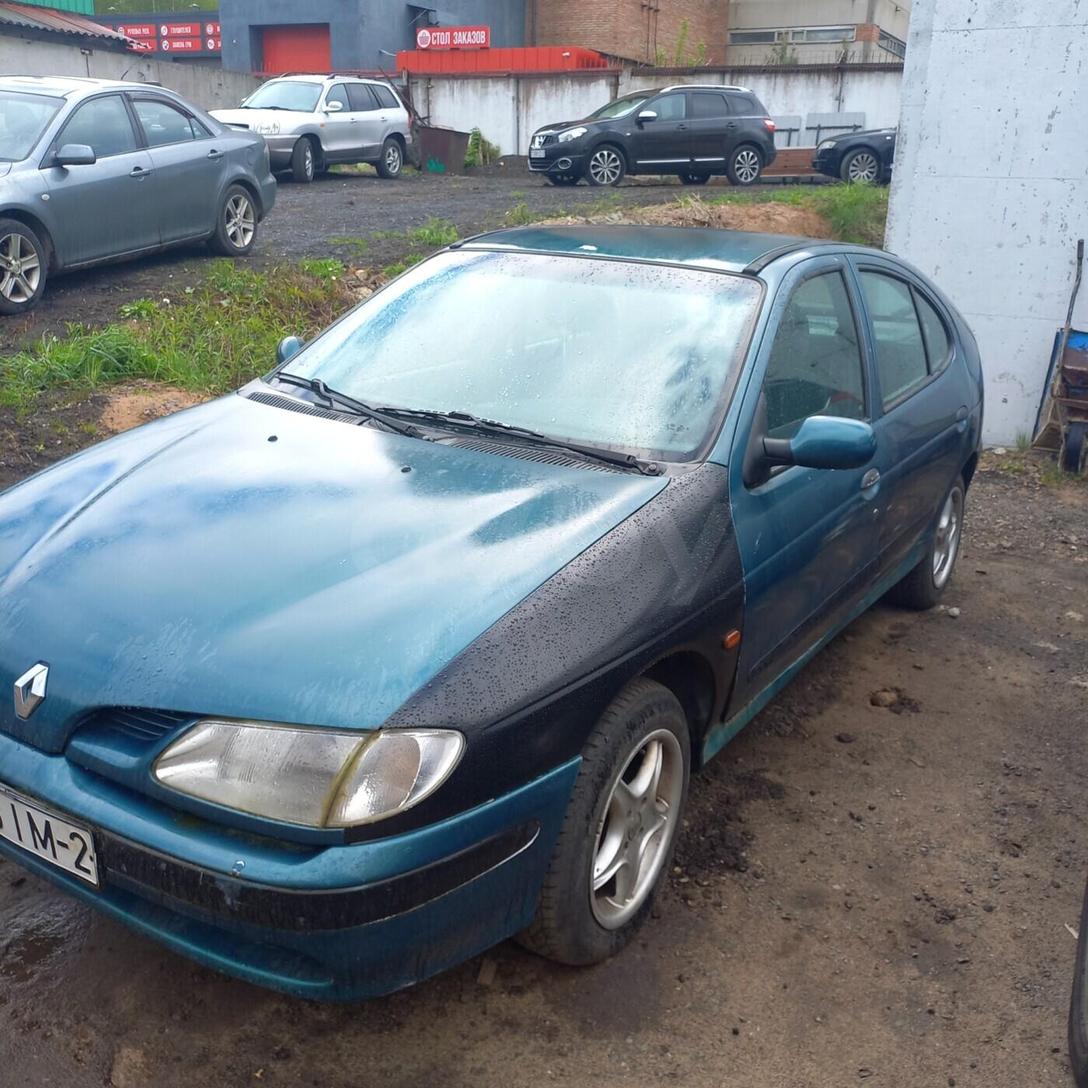Megane_1995-1999: (0, 207, 990, 1029)
